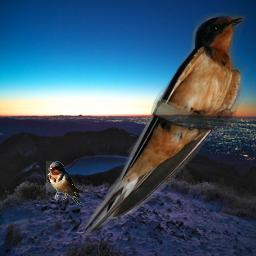Swallow: (77, 10, 250, 235), (46, 161, 84, 209)
